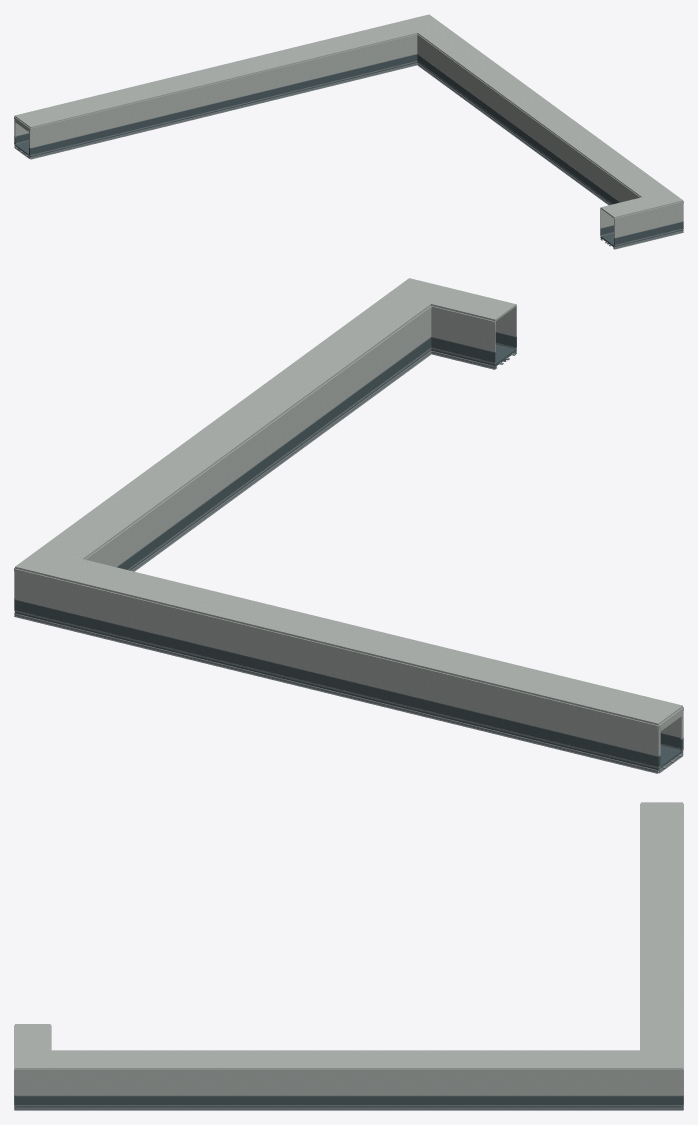
The model's file is VESPER_SERVICE_RECEIVER_r002.glb.
The picture shows the model from 3 angles, top to bottom: view 1: azimuth 30°, elevation 25°; view 2: azimuth 150°, elevation 25°; view 3: azimuth 270°, elevation 25°; orthographic projection. The views are drawn at different scales.
Visible parts, largest first — view 1: VSR_BATCH_001, VSR_BATCH_000, VSR_BATCH_002; view 2: VSR_BATCH_001, VSR_BATCH_000, VSR_BATCH_002; view 3: VSR_BATCH_001, VSR_BATCH_000, VSR_BATCH_002.
Boxes of the visible parts, bbox=[...] form: VSR_BATCH_001: bbox=[14, 14, 683, 237]; VSR_BATCH_000: bbox=[14, 54, 683, 247]; VSR_BATCH_002: bbox=[14, 54, 683, 249]; VSR_BATCH_001: bbox=[14, 278, 683, 755]; VSR_BATCH_000: bbox=[14, 332, 683, 770]; VSR_BATCH_002: bbox=[14, 331, 683, 773]; VSR_BATCH_001: bbox=[14, 802, 683, 1095]; VSR_BATCH_000: bbox=[14, 1096, 683, 1107]; VSR_BATCH_002: bbox=[14, 1072, 683, 1110].
Size of the model in its own units: 60.39 by 4.44 by 63.88.
Materials: 4 (3 with a texture image).
